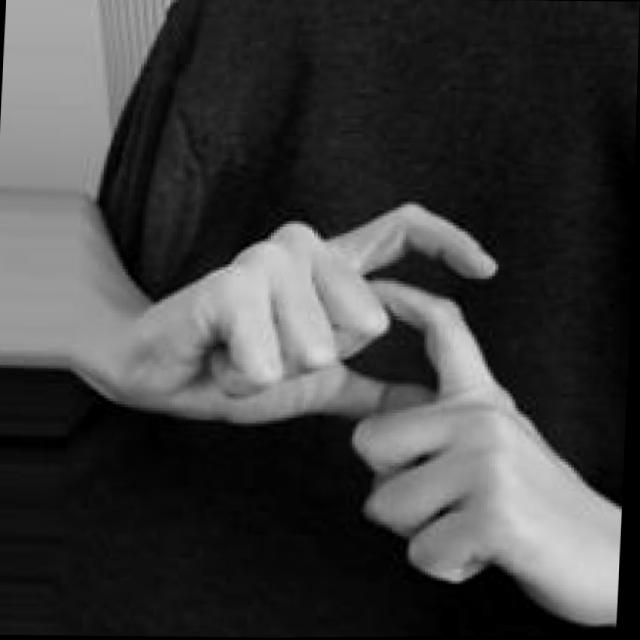G: (111, 191, 634, 627)
